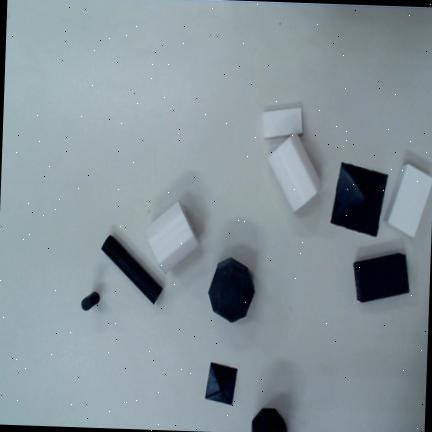Cilindro: (101, 233, 164, 305), (81, 292, 100, 311)
Paralelepipedo: (385, 163, 432, 239), (353, 253, 410, 302), (263, 107, 303, 138)
Piramide: (331, 161, 388, 237), (205, 362, 238, 406)
Prisma_hexagonal: (267, 134, 324, 213), (146, 199, 199, 274), (208, 257, 255, 323), (252, 408, 287, 432)
